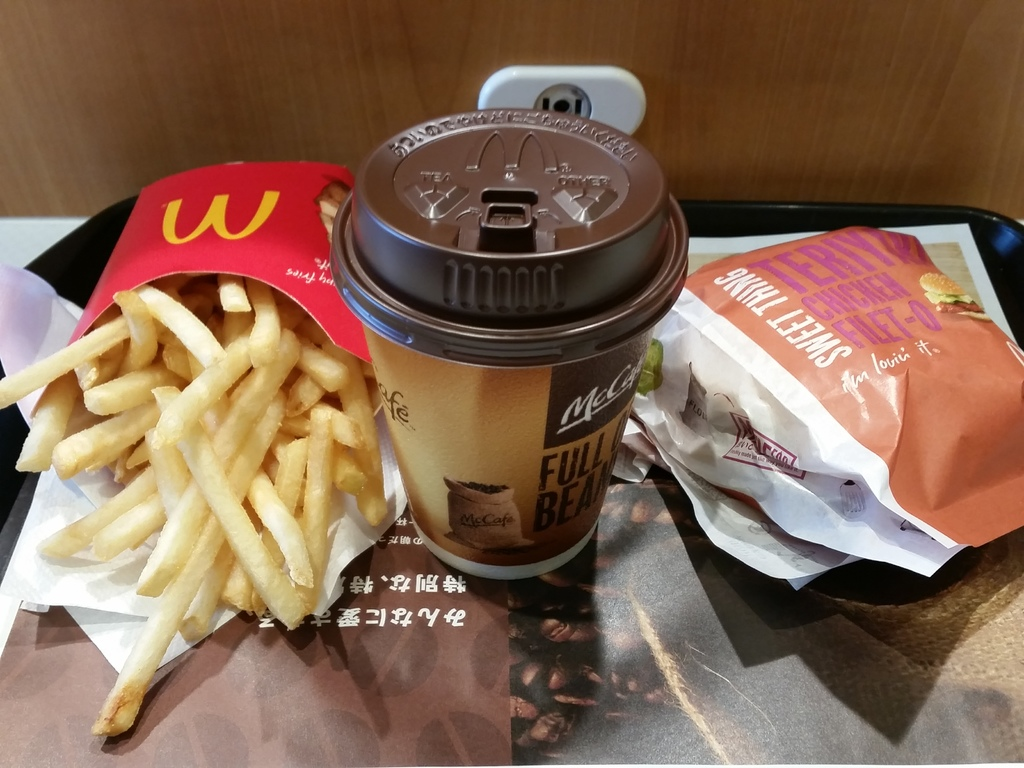French fries: (0, 258, 401, 752)
